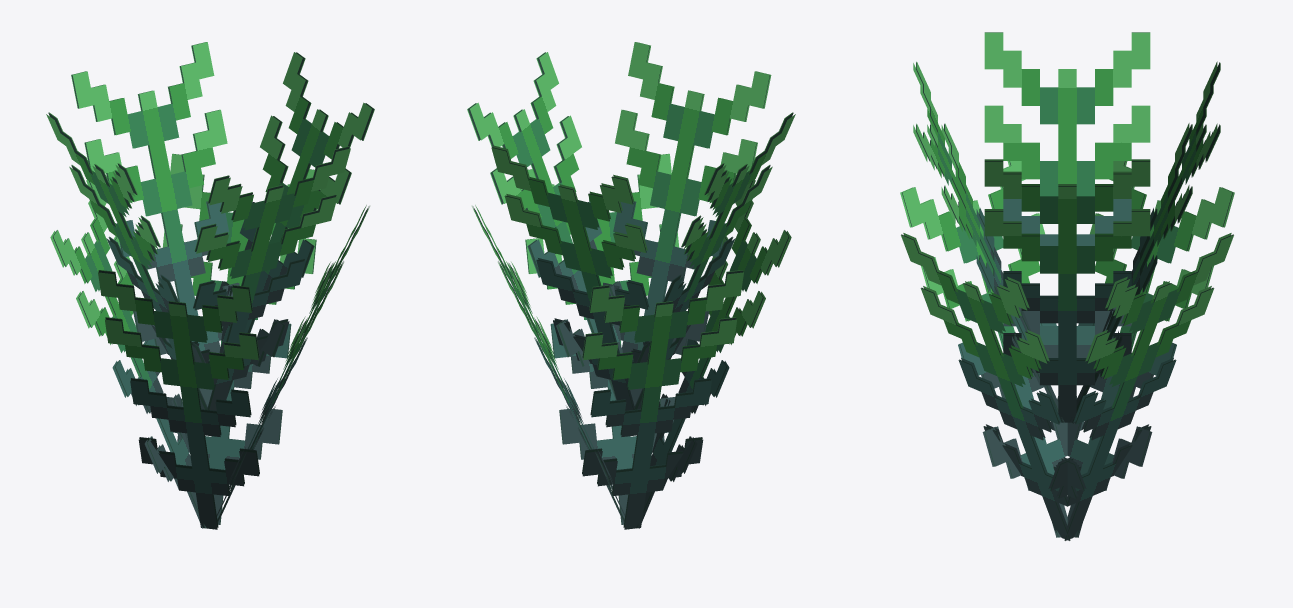
The model's file is wildfield_weeds.obj.
3 views of the same model, side by side, from view 1: azimuth 30°, elevation 25°; view 2: azimuth 150°, elevation 25°; view 3: azimuth 270°, elevation 25° (orthographic). The views are drawn at different scales.
Parts seen in each view (by area): view 1: A; view 2: A; view 3: A.
Part boxes in pixels (x1=…): A: x1=46, y1=42, x2=374, y2=529; A: x1=467, y1=42, x2=795, y2=529; A: x1=900, y1=32, x2=1234, y2=540.
Bounding box in the file's own units: 1.44 × 1.77 × 1.44.
